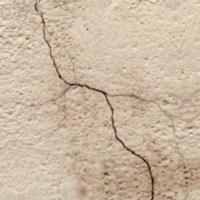crack: (36, 5, 168, 195)
